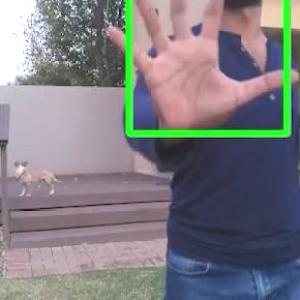follow_hand: (97, 0, 299, 138)
